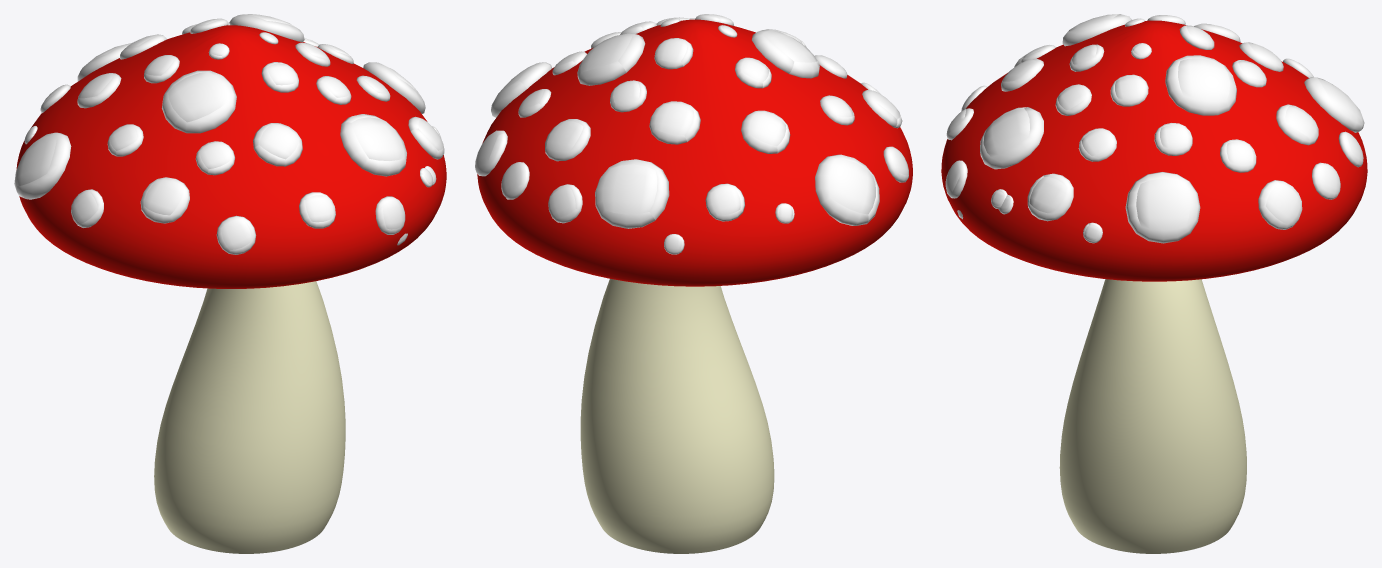
The model's file is mushroom 1.fbx.
3 renders of one model, left to right at view 1: azimuth 30°, elevation 25°; view 2: azimuth 150°, elevation 25°; view 3: azimuth 270°, elevation 25°, orthographic. The views are drawn at different scales.
Parts seen in each view (by area): view 1: Cube.020__0; view 2: Cube.020__0; view 3: Cube.020__0.
Part boxes in pixels (x1,y1,x2,y2): Cube.020__0: (14, 14, 446, 553); Cube.020__0: (475, 14, 912, 553); Cube.020__0: (941, 14, 1367, 553).
Size of the model in its own units: 46.48 by 56.94 by 45.03.
